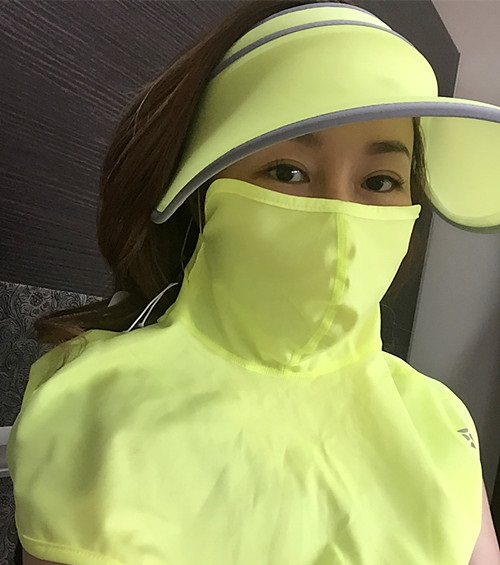face_mask: (215, 73, 417, 362)
